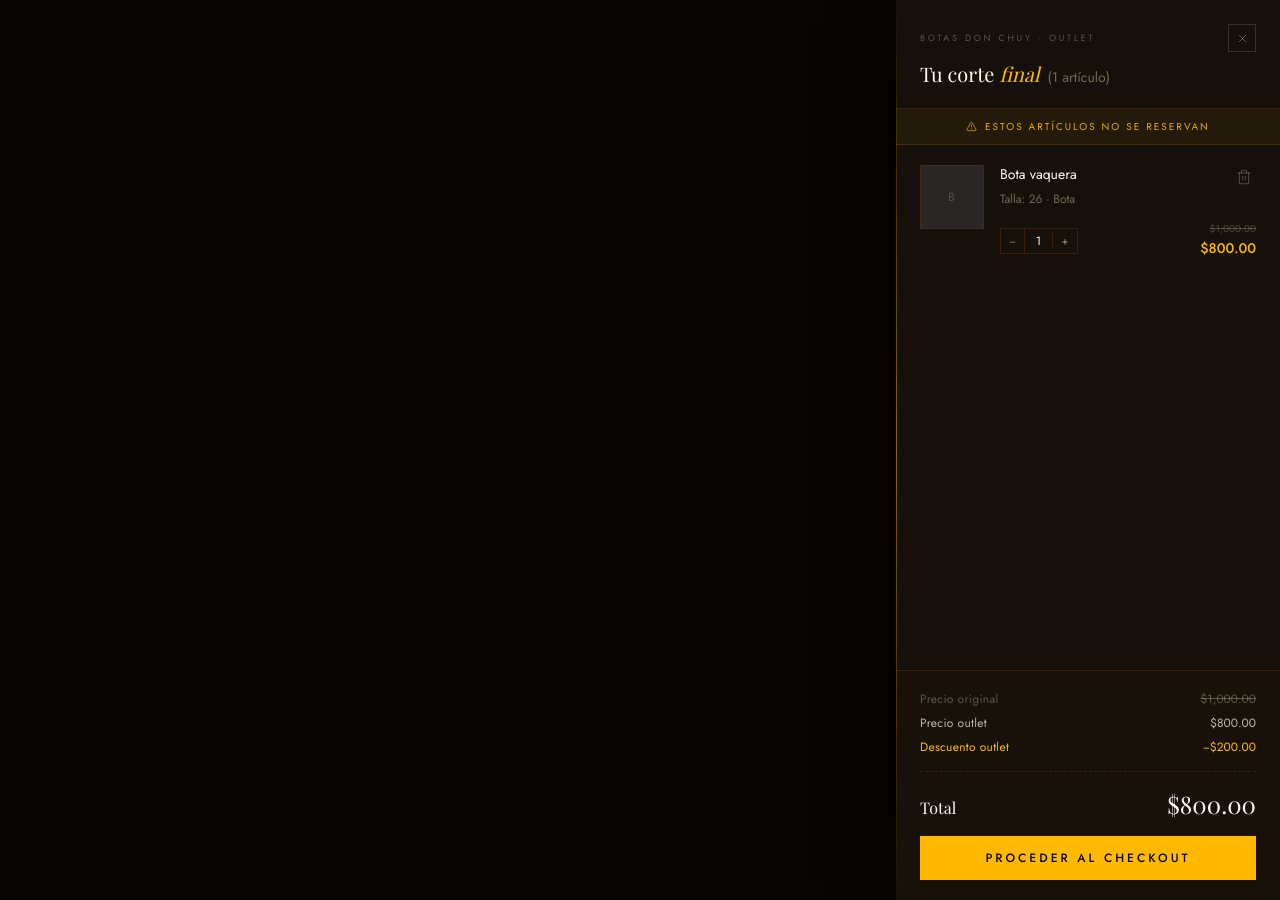
Test: Cart › '−' hasta 0 elimina el artículo del carrito
Click the button named "Disminuir cantidad". click: [1013, 240]
box: [1001, 228, 1025, 252]
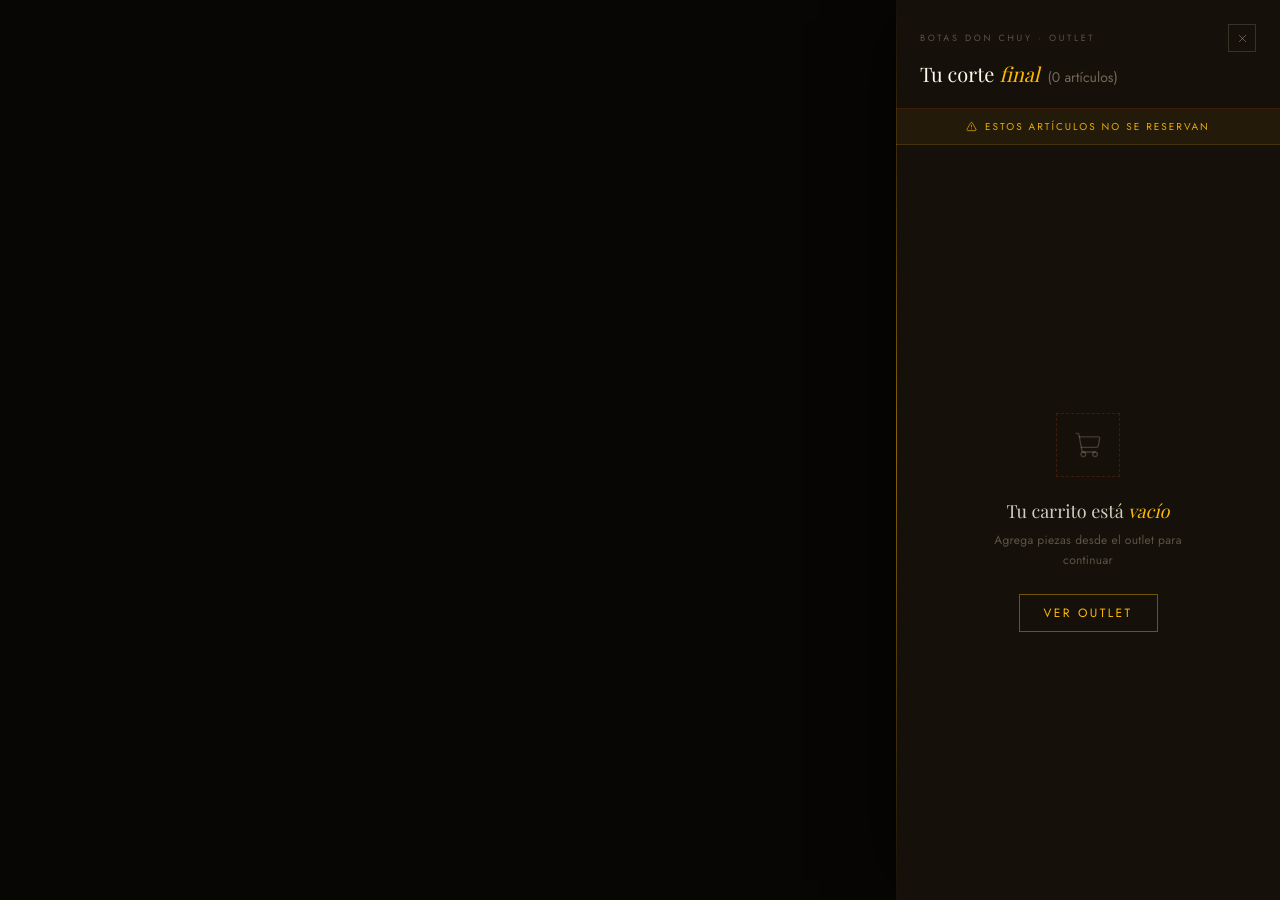
Expected: the text "vacío" is shown, [1128, 499, 1169, 523]
